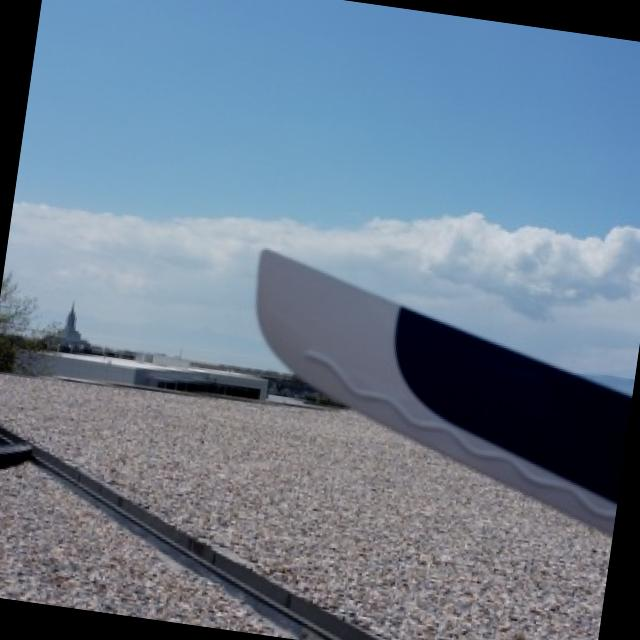healthy: (256, 249, 630, 533)
